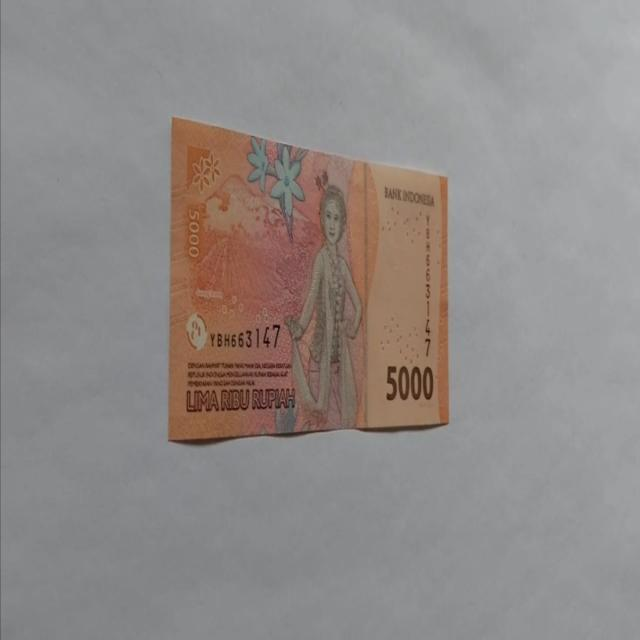lima ribu rupiah: (168, 114, 450, 442), (283, 183, 363, 430)
